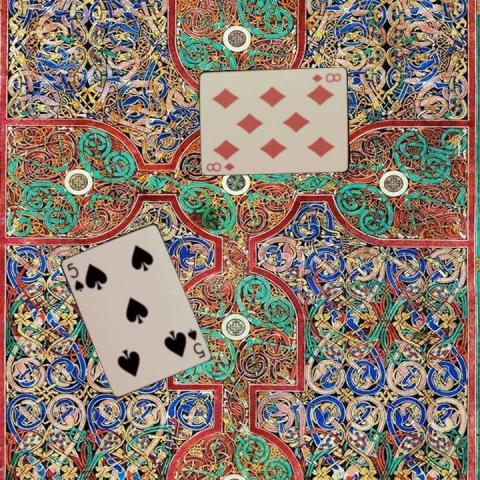5s: (184, 326, 206, 360), (64, 260, 85, 293)
8d: (308, 70, 342, 84), (203, 159, 236, 173)
